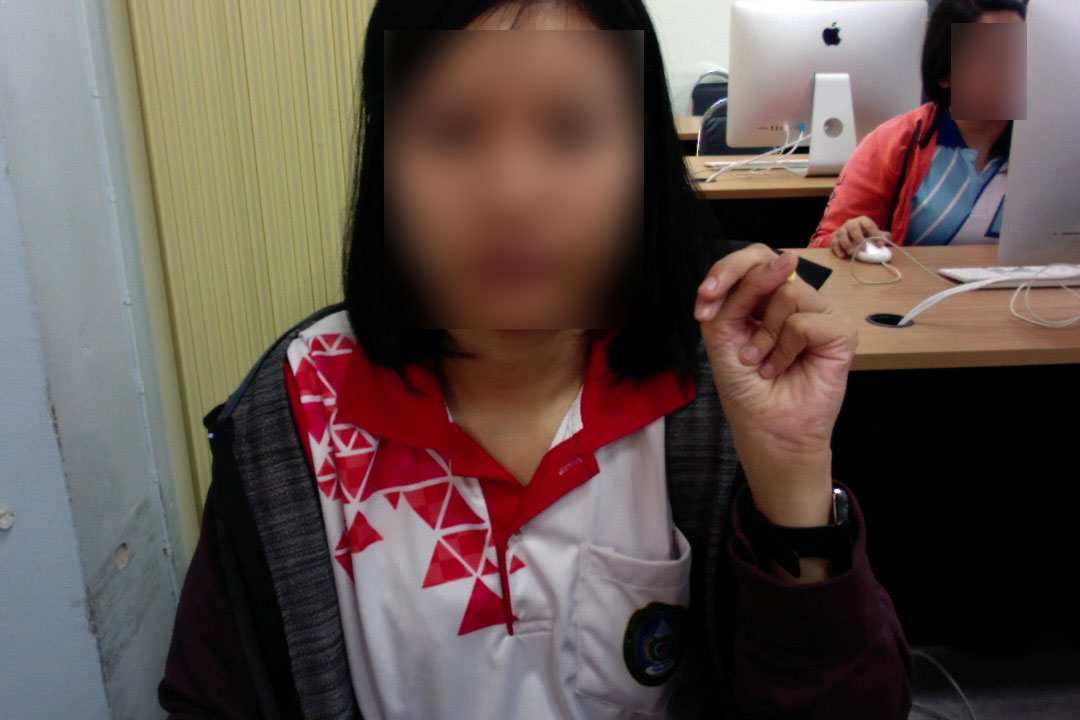nor: (692, 234, 857, 465)
